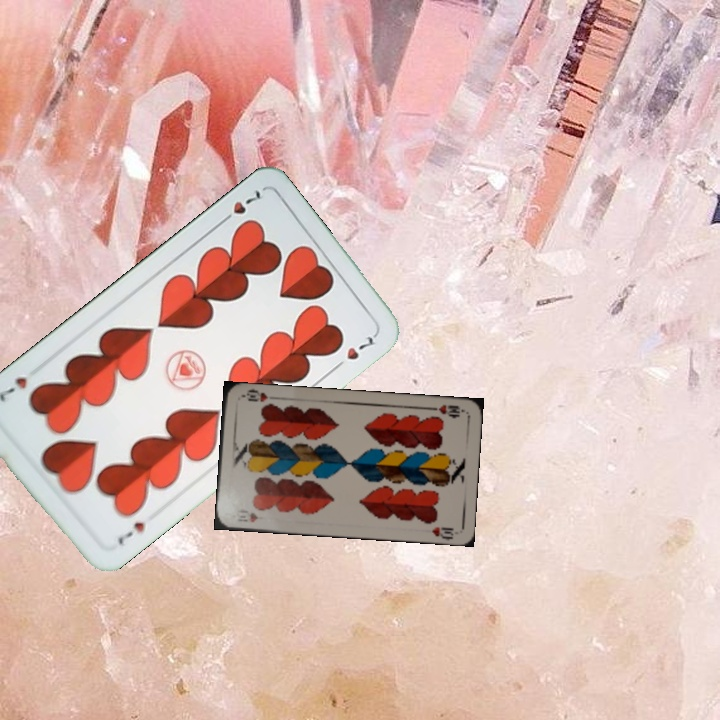H10: (426, 401, 466, 420), (233, 506, 260, 524)
H7: (215, 185, 266, 228), (113, 517, 148, 548)
